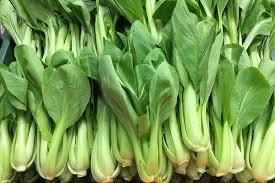Healthy-Pechay: (5, 7, 275, 169)
